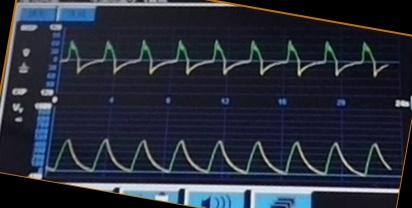Accumulation Flow: (65, 32, 387, 90)
Volume: (53, 125, 388, 183)
